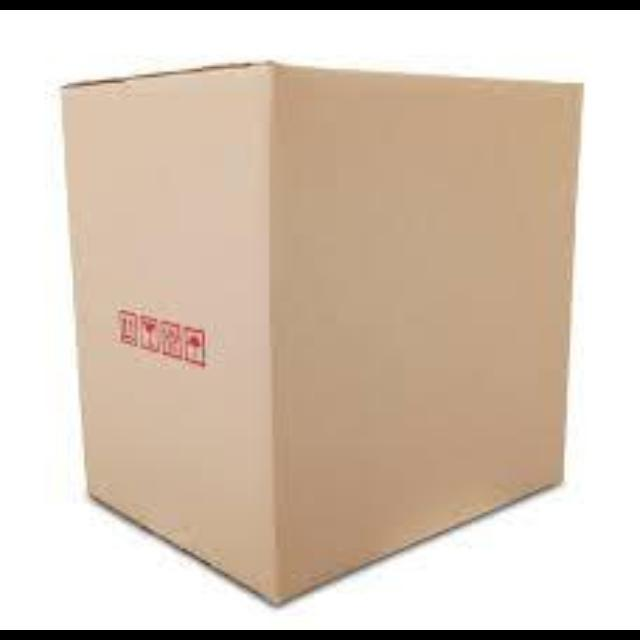garrafa plástica: (62, 58, 586, 602)
